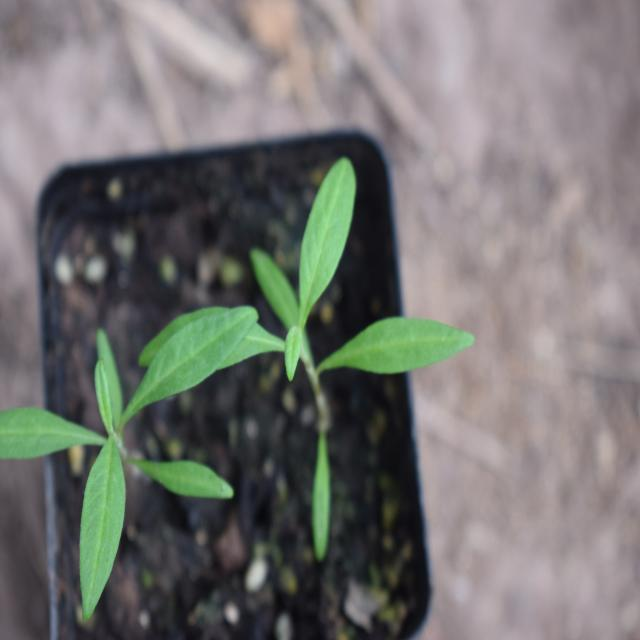white_smart_weed: (159, 145, 475, 517), (15, 296, 276, 600)
